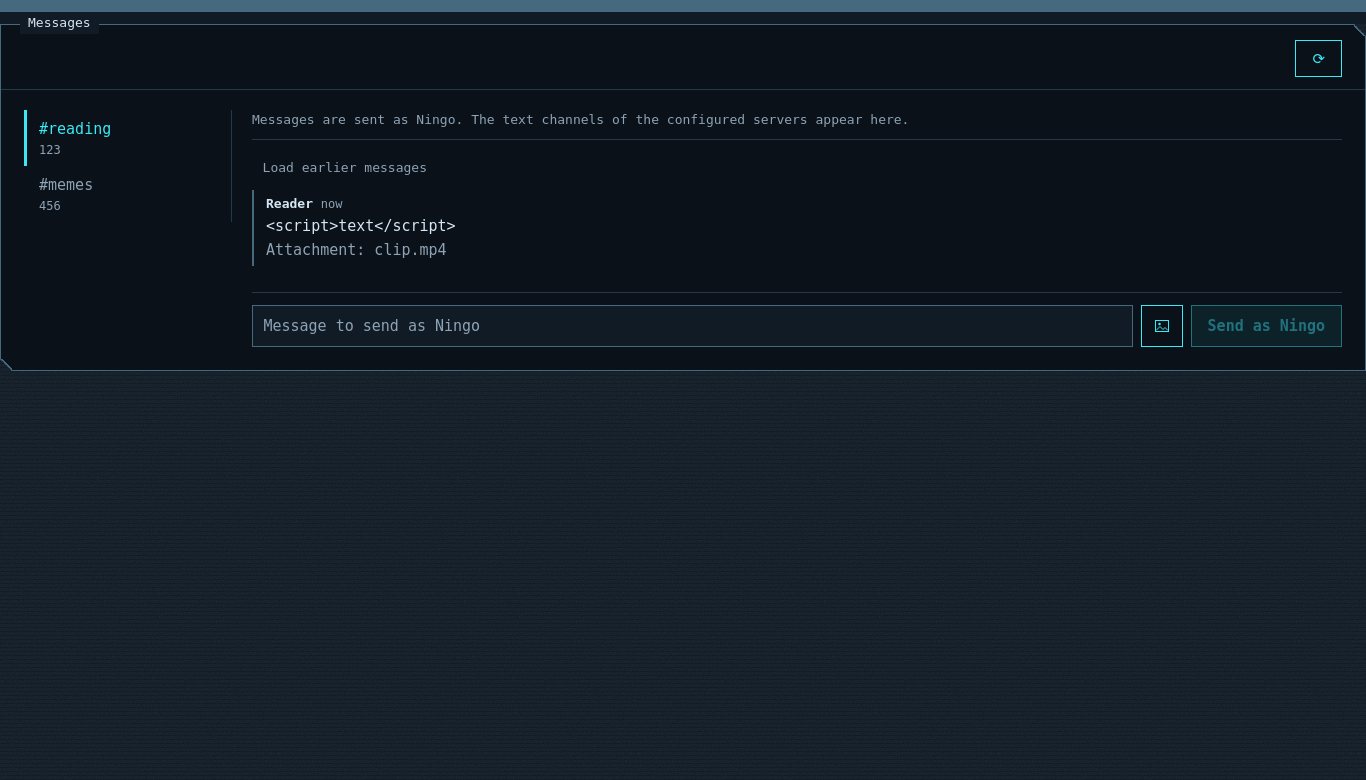
communications › pages with the returned cursor and returns to latest
Expected: the text "<script>text</script>" is shown, top-left (266, 217), bottom-right (456, 235)
Click the button "Load earlier messages" at [345, 169], box top-left (252, 156), bottom-right (438, 182)
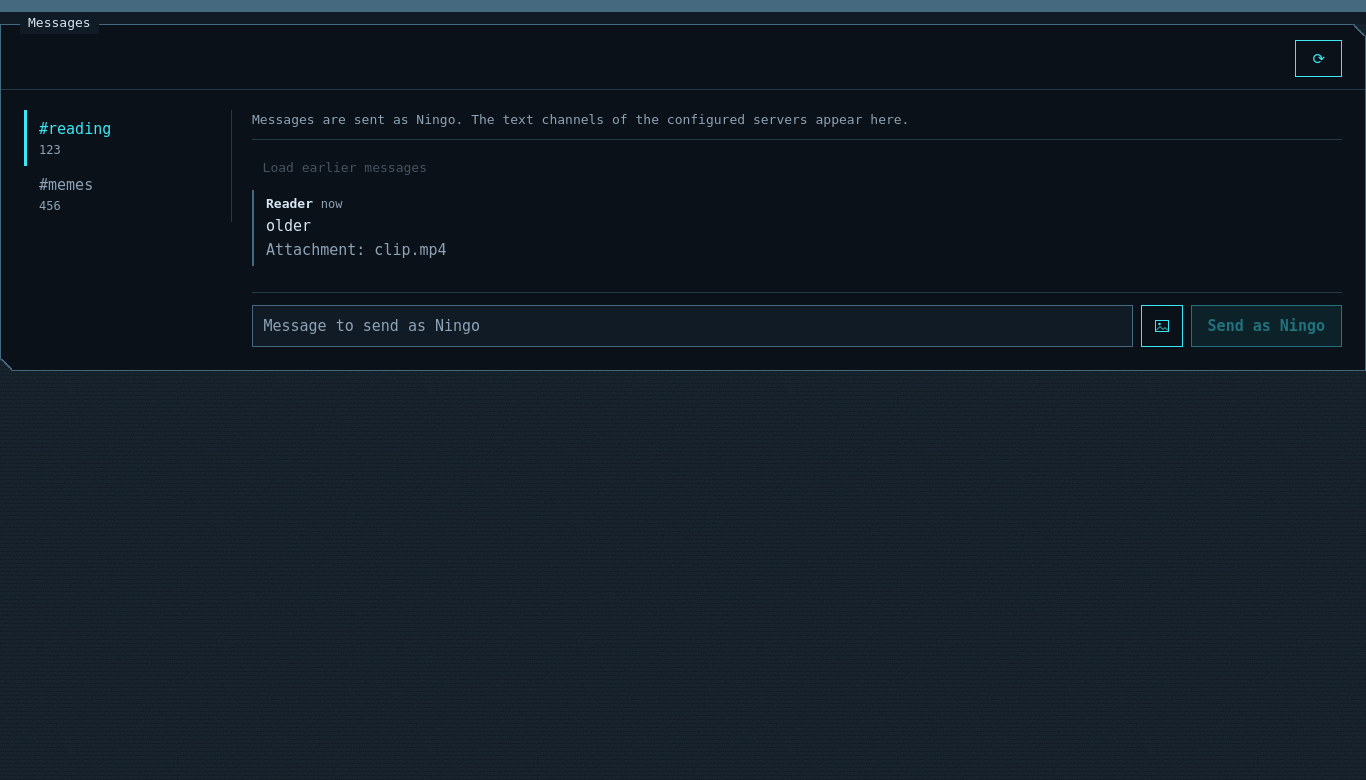
Expected: the text "older" is shown, top-left (266, 217), bottom-right (311, 235)
Click the button named "Refresh" at [1319, 59], box top-left (1295, 40), bottom-right (1342, 77)
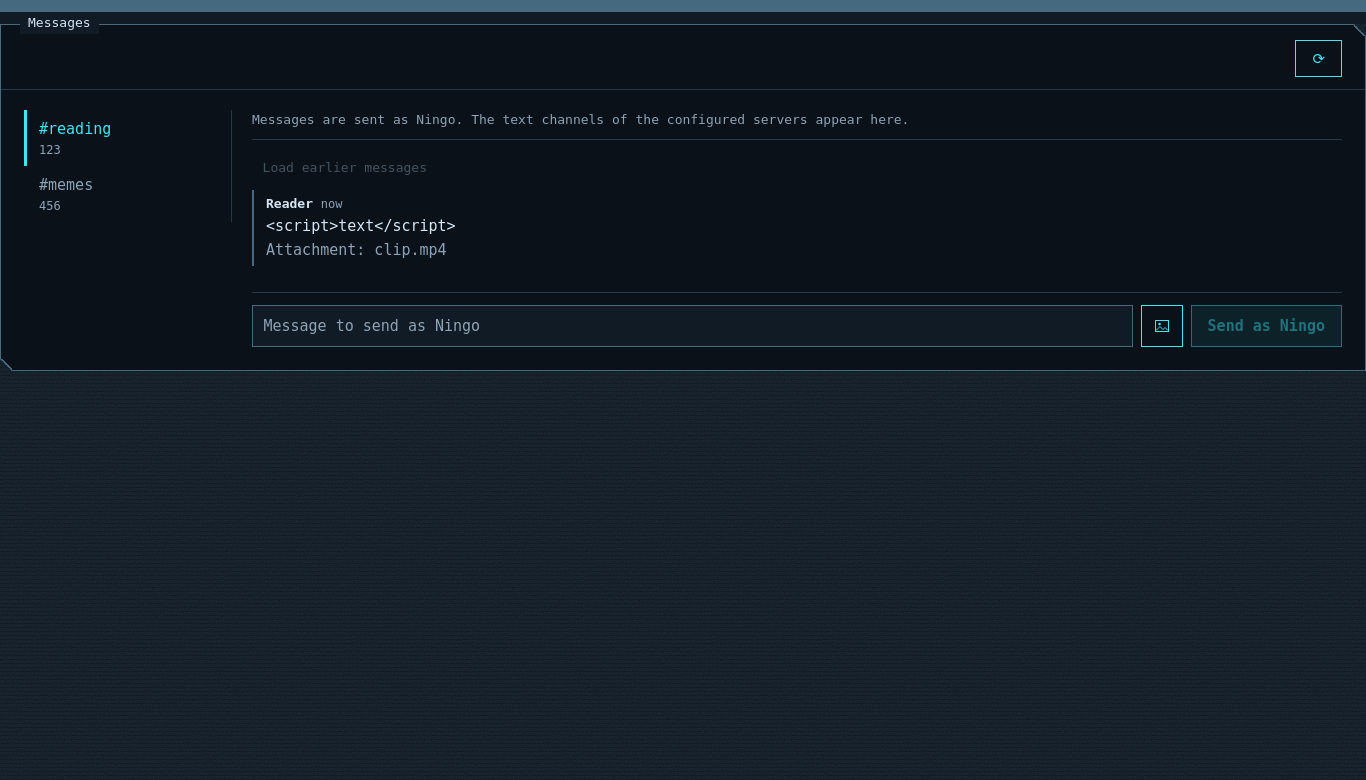
Expected: the text "<script>text</script>" is shown, top-left (266, 217), bottom-right (456, 235)
